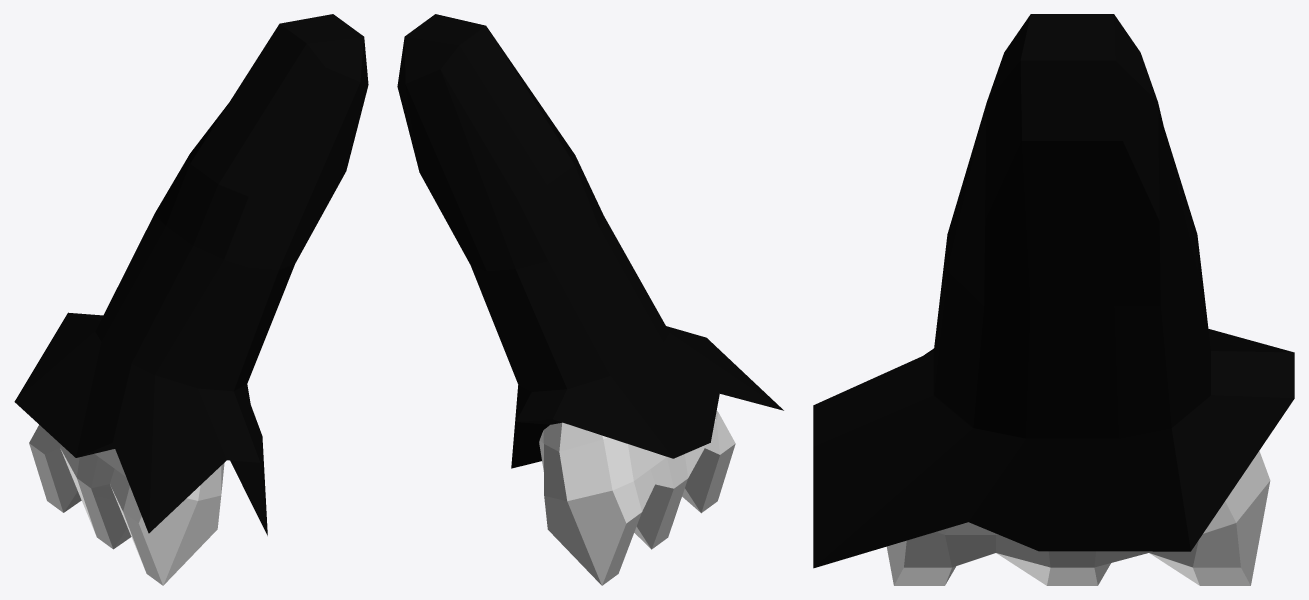
Rendered from leftArm.obj.
3 renders of one model, left to right at view 1: azimuth 30°, elevation 25°; view 2: azimuth 150°, elevation 25°; view 3: azimuth 270°, elevation 25°, orthographic. The views are drawn at different scales.
Visible parts, largest first — view 1: LEFT_ARM; view 2: LEFT_ARM; view 3: LEFT_ARM.
Part boxes in pixels (left/top/right/bottom): LEFT_ARM: left=14, top=14, right=368, bottom=585; LEFT_ARM: left=397, top=14, right=783, bottom=585; LEFT_ARM: left=813, top=14, right=1294, bottom=585.
Size of the model in its own units: 0.5074 by 0.7521 by 0.4605.
